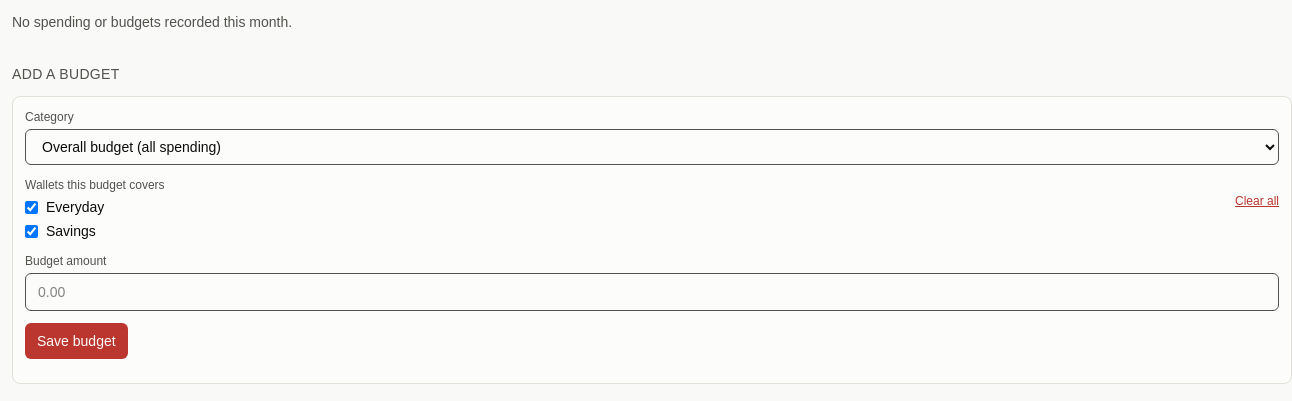
Test: BudgetList — select all / clear all in the wallet picker › flips the label back to Select all after unchecking one of every wallet
Expected: the button "Clear all" is shown, [1235, 193, 1279, 209]
Click the checkbox labelled "Everyday": (32, 207) [25, 200, 38, 214]
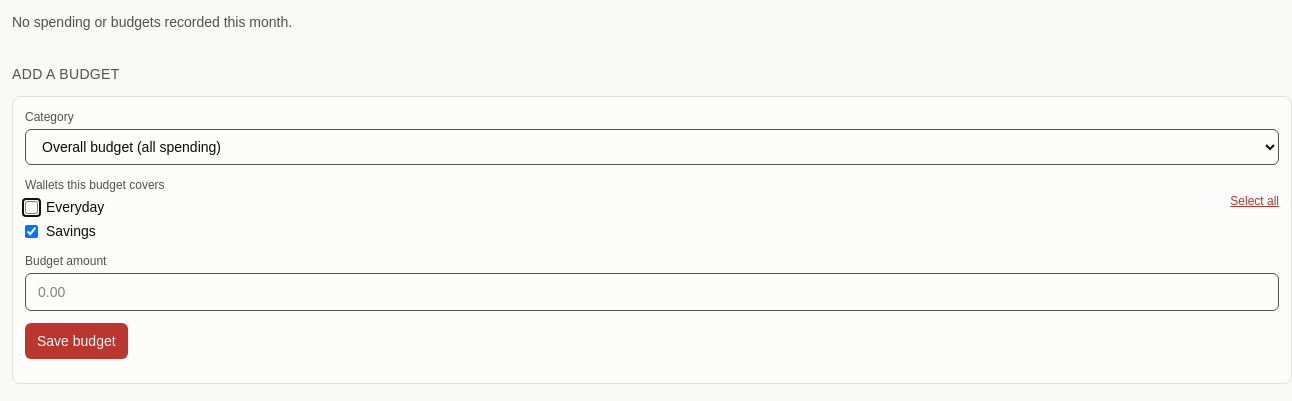
Expected: the button "Select all" is shown, [1230, 193, 1279, 209]
Expected: the button "Clear all" is gone
